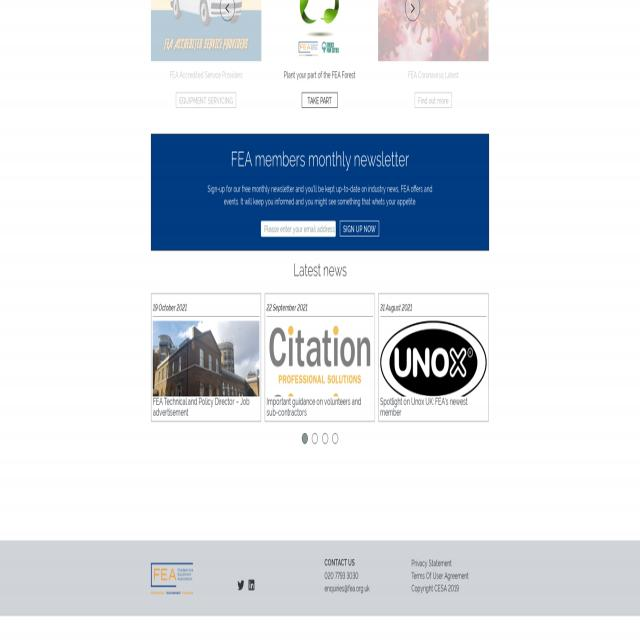button: (151, 293, 261, 422), (265, 293, 375, 422), (378, 293, 488, 422), (151, 0, 261, 64), (265, 0, 375, 64), (378, 0, 488, 64), (151, 557, 193, 600), (340, 221, 379, 236), (220, 0, 235, 21), (405, 0, 420, 21), (300, 431, 310, 446), (310, 431, 320, 446), (320, 431, 330, 446), (330, 431, 340, 446), (249, 577, 255, 592), (238, 578, 244, 592)
field: (260, 220, 336, 237)
